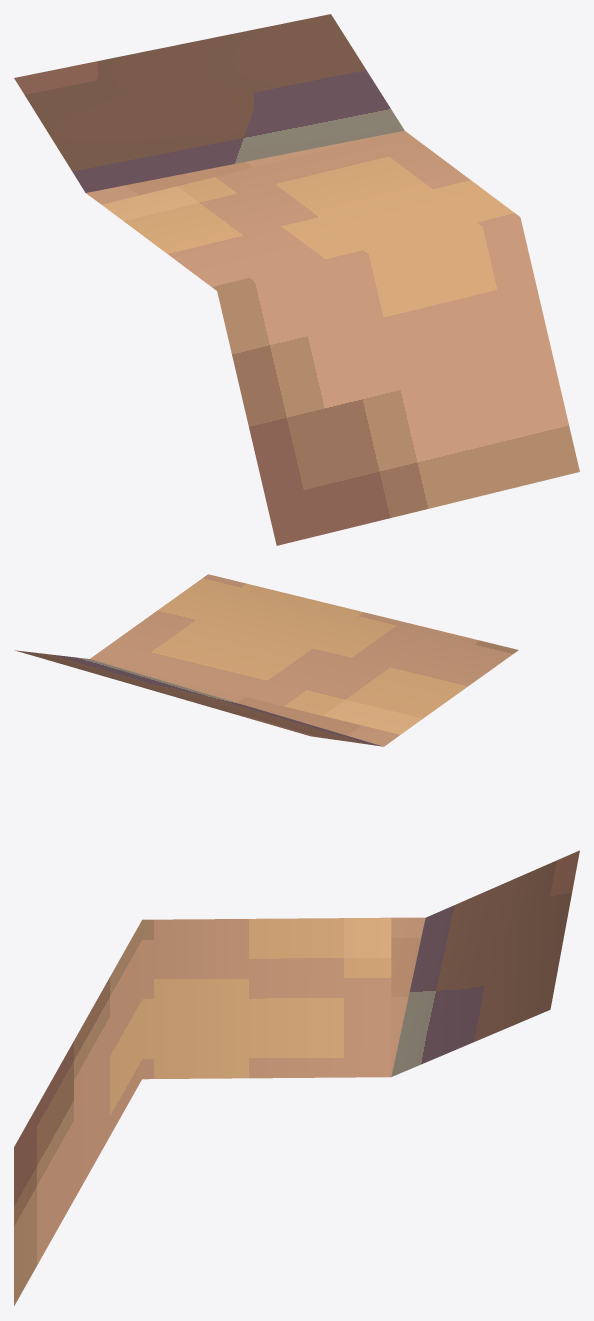
The picture shows the model from 3 angles, top to bottom: view 1: azimuth 30°, elevation 25°; view 2: azimuth 150°, elevation 25°; view 3: azimuth 270°, elevation 25°; orthographic projection. The views are drawn at different scales.
Size of the model in its own units: 0.5 by 0.4342 by 0.75.
Materials: 2 (2 with a texture image).
